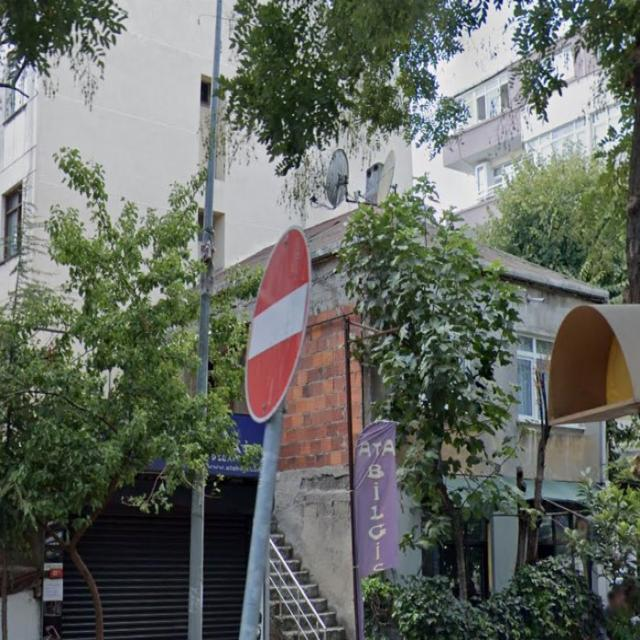girisyok: (246, 226, 310, 424)
